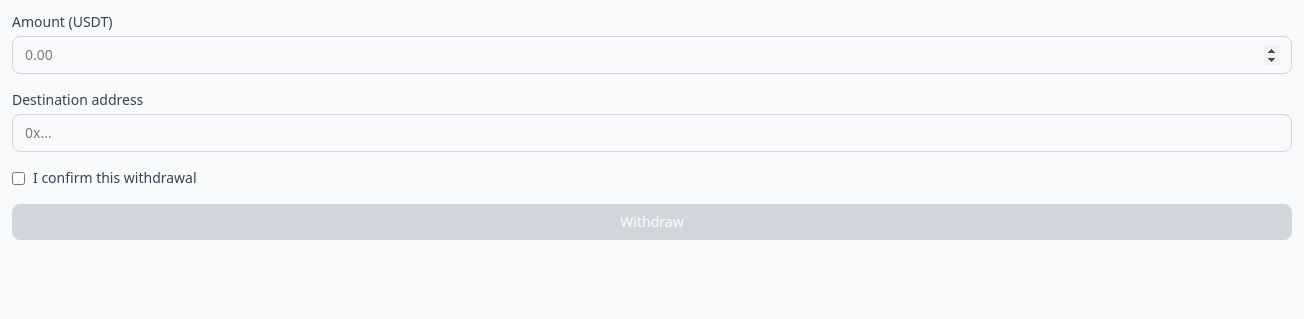
Test: WithdrawForm › shows error message on API failure
Type "100" into the number field labelled "Amount (USDT)".
click(652, 55); type("100")  # box [12,36,1292,74]
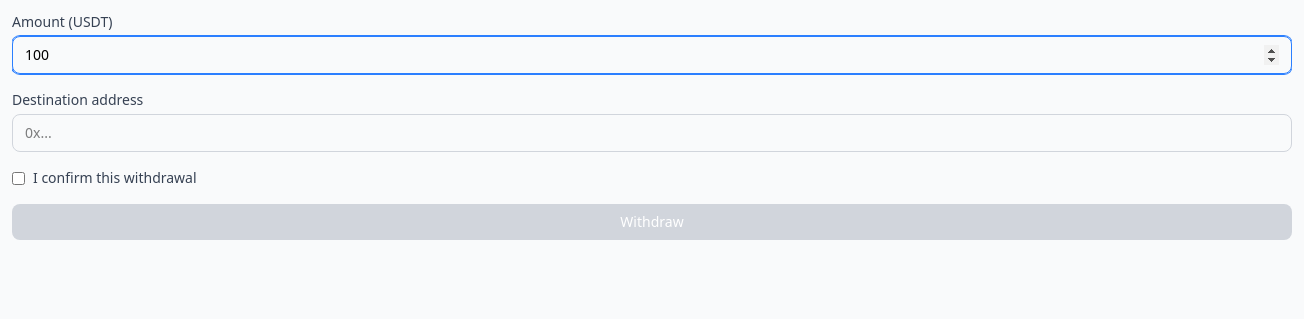
Type "0xabc123" into the field labelled "Destination address".
click(652, 133); type("0xabc123")  # box [12,114,1292,152]
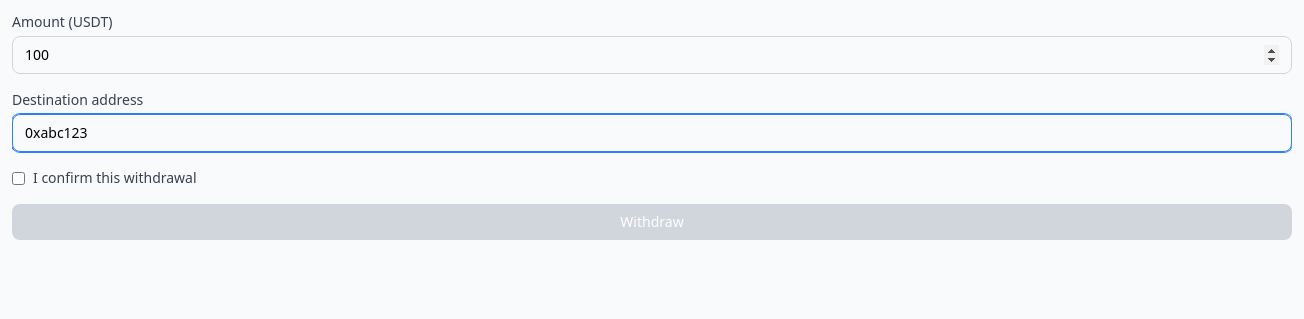
Click the checkbox labelled "I confirm this withdrawal".
click(18, 178)  # box [12,172,25,184]
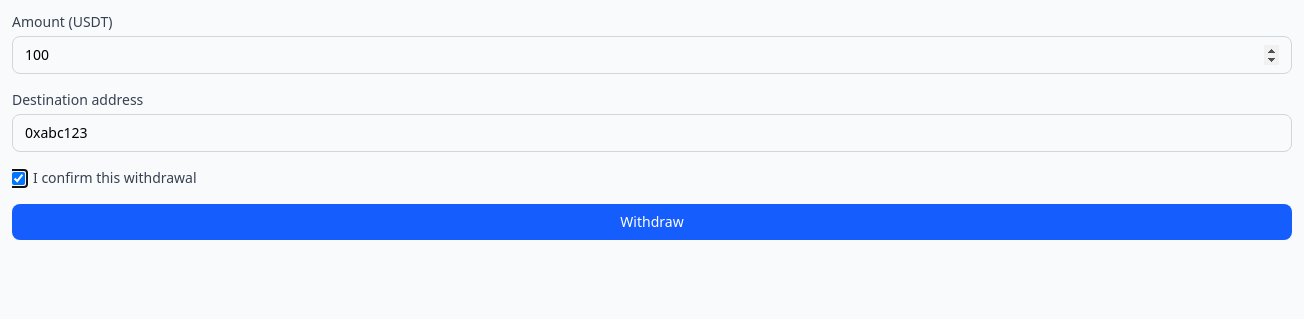
Click the button "Withdraw".
click(652, 222)  # box [12,204,1292,240]
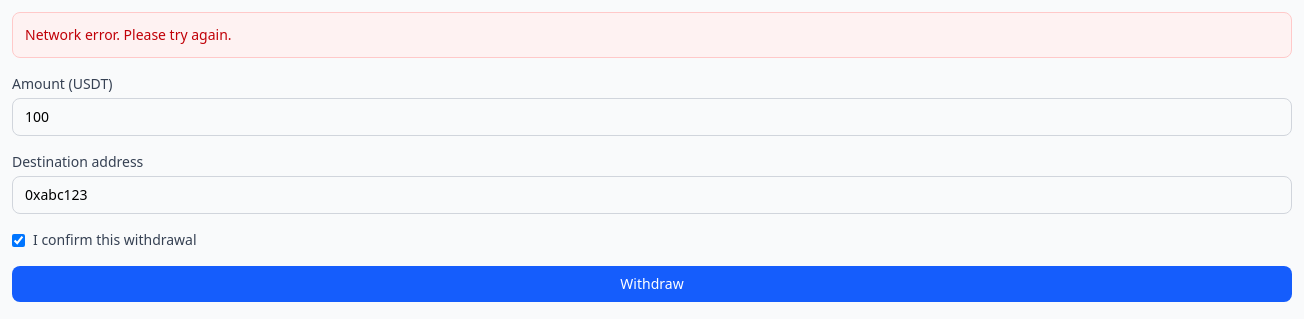
Expected: the text "Network error. Please try again." is shown, [12,12,1292,58]
